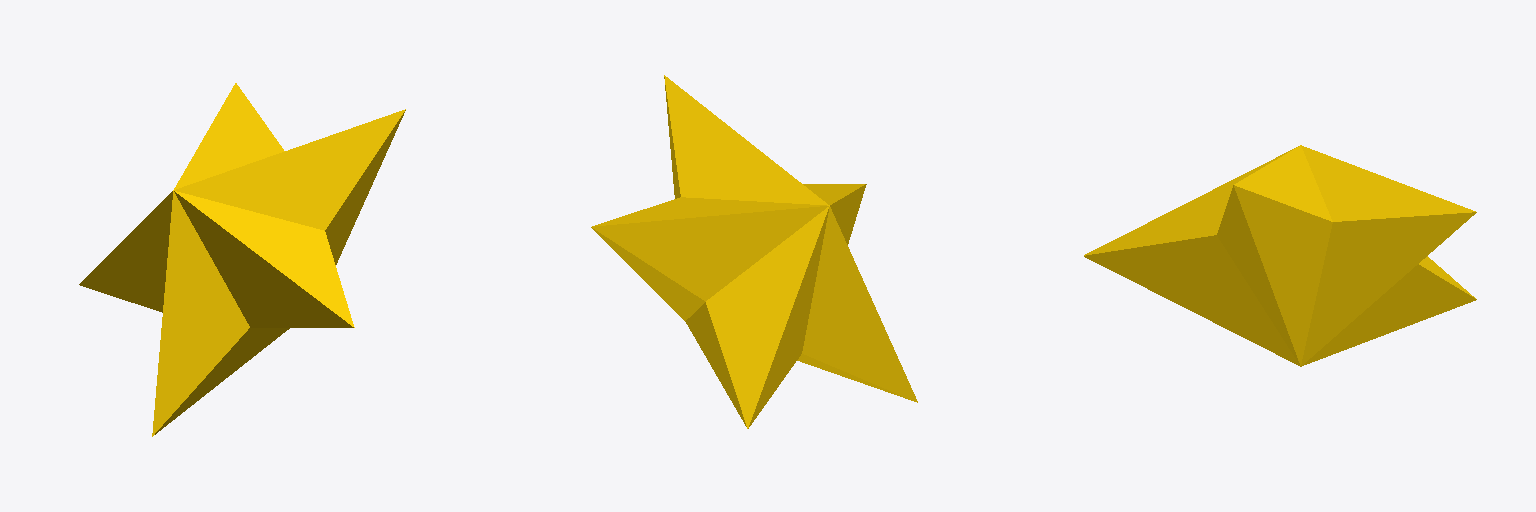
3 views of the same model, side by side, from view 1: azimuth 30°, elevation 25°; view 2: azimuth 150°, elevation 25°; view 3: azimuth 270°, elevation 25° (orthographic).
Parts seen in each view (by area): view 1: Star_01.002_Star_01.003; view 2: Star_01.002_Star_01.003; view 3: Star_01.002_Star_01.003.
Part boxes in pixels (left/top/right/bottom): Star_01.002_Star_01.003: left=79, top=83, right=405, bottom=436; Star_01.002_Star_01.003: left=591, top=75, right=917, bottom=428; Star_01.002_Star_01.003: left=1084, top=145, right=1476, bottom=366.
Size of the model in its own units: 0.643 by 0.643 by 0.8649.